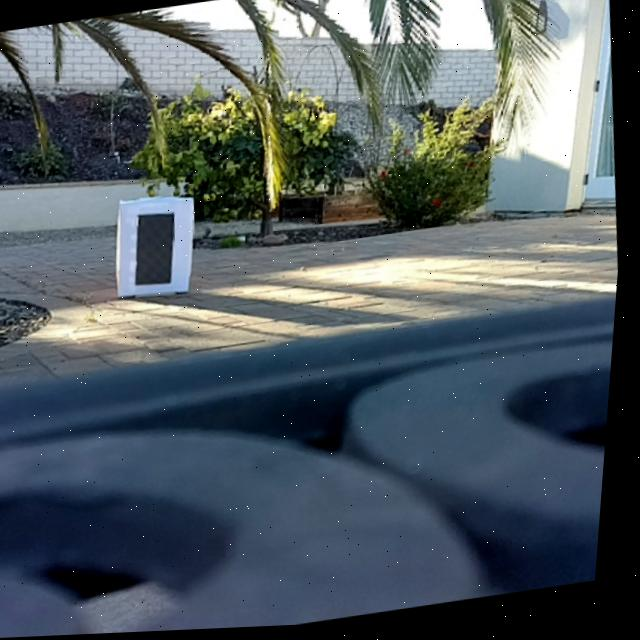led: (132, 209, 184, 289)
